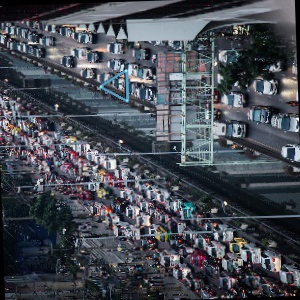triangle: (97, 68, 130, 103)
